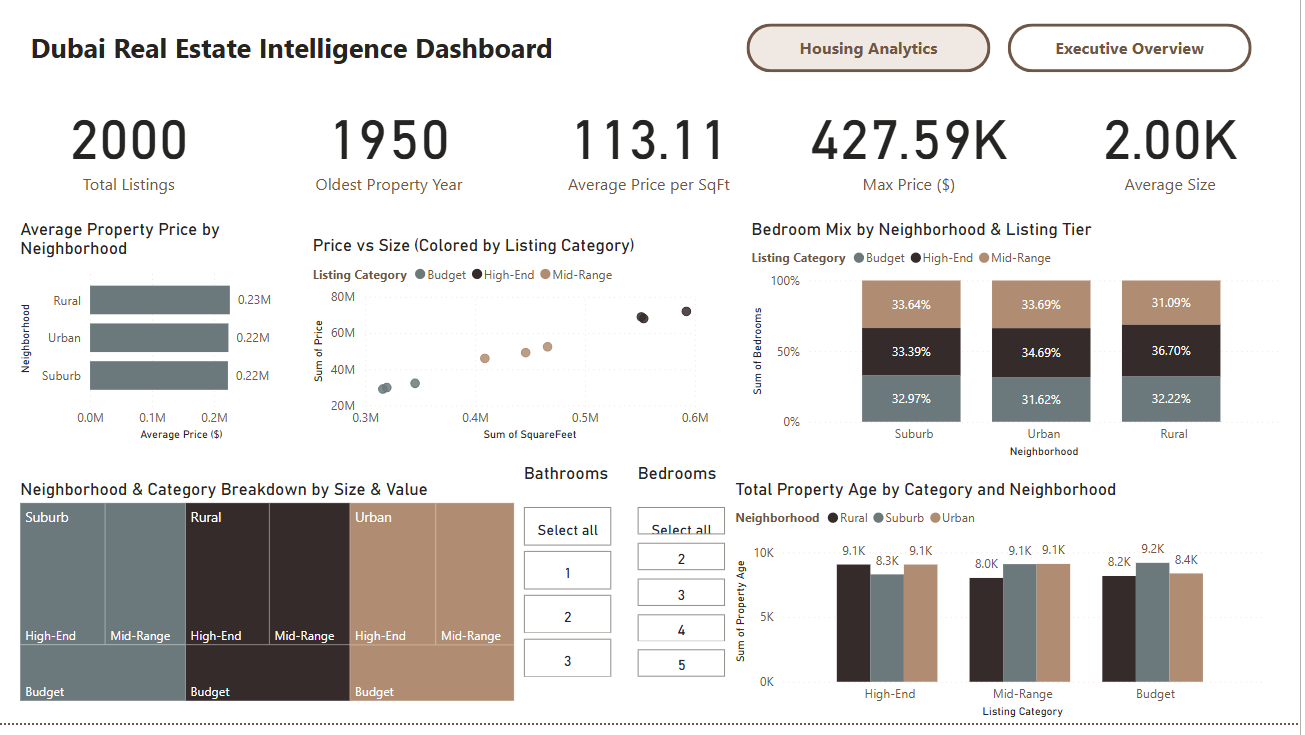

What the dashboard file says about the page in this screenshot:
{"tool":"powerbi","page":{"name":"Housing Analytics","canvas":[1280,720],"ordinal":0},"visuals":[{"type":"card","fields":{"Values":["DubaiHousing.Average Price per SqFt"]},"box":[528,94.4,224,112],"z":0},{"type":"card","fields":{"Values":["DubaiHousing.Average Size"]},"box":[1040,94.4,224,112],"z":1000},{"type":"card","fields":{"Values":["DubaiHousing.Max Price"]},"box":[784,94.4,224,112],"z":2000},{"type":"card","fields":{"Values":["DubaiHousing.Oldest Property Year"]},"box":[272,94.4,224,112],"z":3000},{"type":"card","fields":{"Values":["DubaiHousing.Total Listings"]},"box":[16,94.4,224,112],"z":4000},{"type":"clusteredBarChart","title":"Average Property Price by Neighborhood","fields":{"Category":["DubaiHousing.Neighborhood"],"Y":["DubaiHousing.Average Price ($)"]},"box":[16,224,272,224],"z":5000},{"type":"hundredPercentStackedColumnChart","title":"Bedroom Mix by Neighborhood & Listing Tier","fields":{"Series":["DubaiHousing.Listing Category"],"Y":["Sum(DubaiHousing.Bedrooms)"],"Category":["DubaiHousing.Neighborhood"]},"box":[736,224,528,240],"z":6000},{"type":"treemap","title":"Neighborhood & Category Breakdown by Size & Value","fields":{"Group":["DubaiHousing.Neighborhood"],"Details":["DubaiHousing.Listing Category"],"Values":["DubaiHousing.Average Price per SqFt"]},"box":[16,480,496,224],"z":7000},{"type":"clusteredColumnChart","title":"Total Property Age by Category and Neighborhood","fields":{"Y":["Sum(DubaiHousing.Property Age)"],"Category":["DubaiHousing.Listing Category"],"Series":["DubaiHousing.Neighborhood"]},"box":[720,480,528,240],"z":8000},{"type":"scatterChart","title":"Price vs Size (Colored by Listing Category)","fields":{"X":["Sum(DubaiHousing.SquareFeet)"],"Y":["Sum(DubaiHousing.Price)"],"Series":["DubaiHousing.Listing Category"],"Category":["DubaiHousing.Neighborhood"]},"box":[304,240,400,208],"z":9000},{"type":"advancedSlicerVisual","fields":{"Values":["DubaiHousing.Bedrooms"]},"box":[624,464,96,240],"z":10000},{"type":"textbox","box":[16,32,544,48],"z":11000},{"type":"advancedSlicerVisual","fields":{"Values":["DubaiHousing.Bathrooms"]},"box":[512,464,96,240],"z":12000},{"type":"actionButton","box":[992,32,240,48],"z":13001},{"type":"actionButton","box":[736,32,240,48],"z":13002}]}

Visuals, with their boxes in screenshot pixels (x1, y1, x2, y2), scaled from the page's 1280x720 canvas onto the 1305x735 screenshot:
card - DubaiHousing.Average Price per SqFt: select_region(538, 96, 767, 211)
card - DubaiHousing.Average Size: select_region(1060, 96, 1289, 211)
card - DubaiHousing.Max Price: select_region(799, 96, 1028, 211)
card - DubaiHousing.Oldest Property Year: select_region(277, 96, 506, 211)
card - DubaiHousing.Total Listings: select_region(16, 96, 245, 211)
"Average Property Price by Neighborhood" clusteredBarChart: select_region(16, 229, 294, 457)
"Bedroom Mix by Neighborhood & Listing Tier" hundredPercentStackedColumnChart: select_region(750, 229, 1289, 474)
"Neighborhood & Category Breakdown by Size & Value" treemap: select_region(16, 490, 522, 719)
"Total Property Age by Category and Neighborhood" clusteredColumnChart: select_region(734, 490, 1272, 734)
"Price vs Size (Colored by Listing Category)" scatterChart: select_region(310, 245, 718, 457)
advancedSlicerVisual - DubaiHousing.Bedrooms: select_region(636, 474, 734, 719)
textbox: select_region(16, 33, 571, 82)
advancedSlicerVisual - DubaiHousing.Bathrooms: select_region(522, 474, 620, 719)
actionButton: select_region(1011, 33, 1256, 82)
actionButton: select_region(750, 33, 995, 82)
